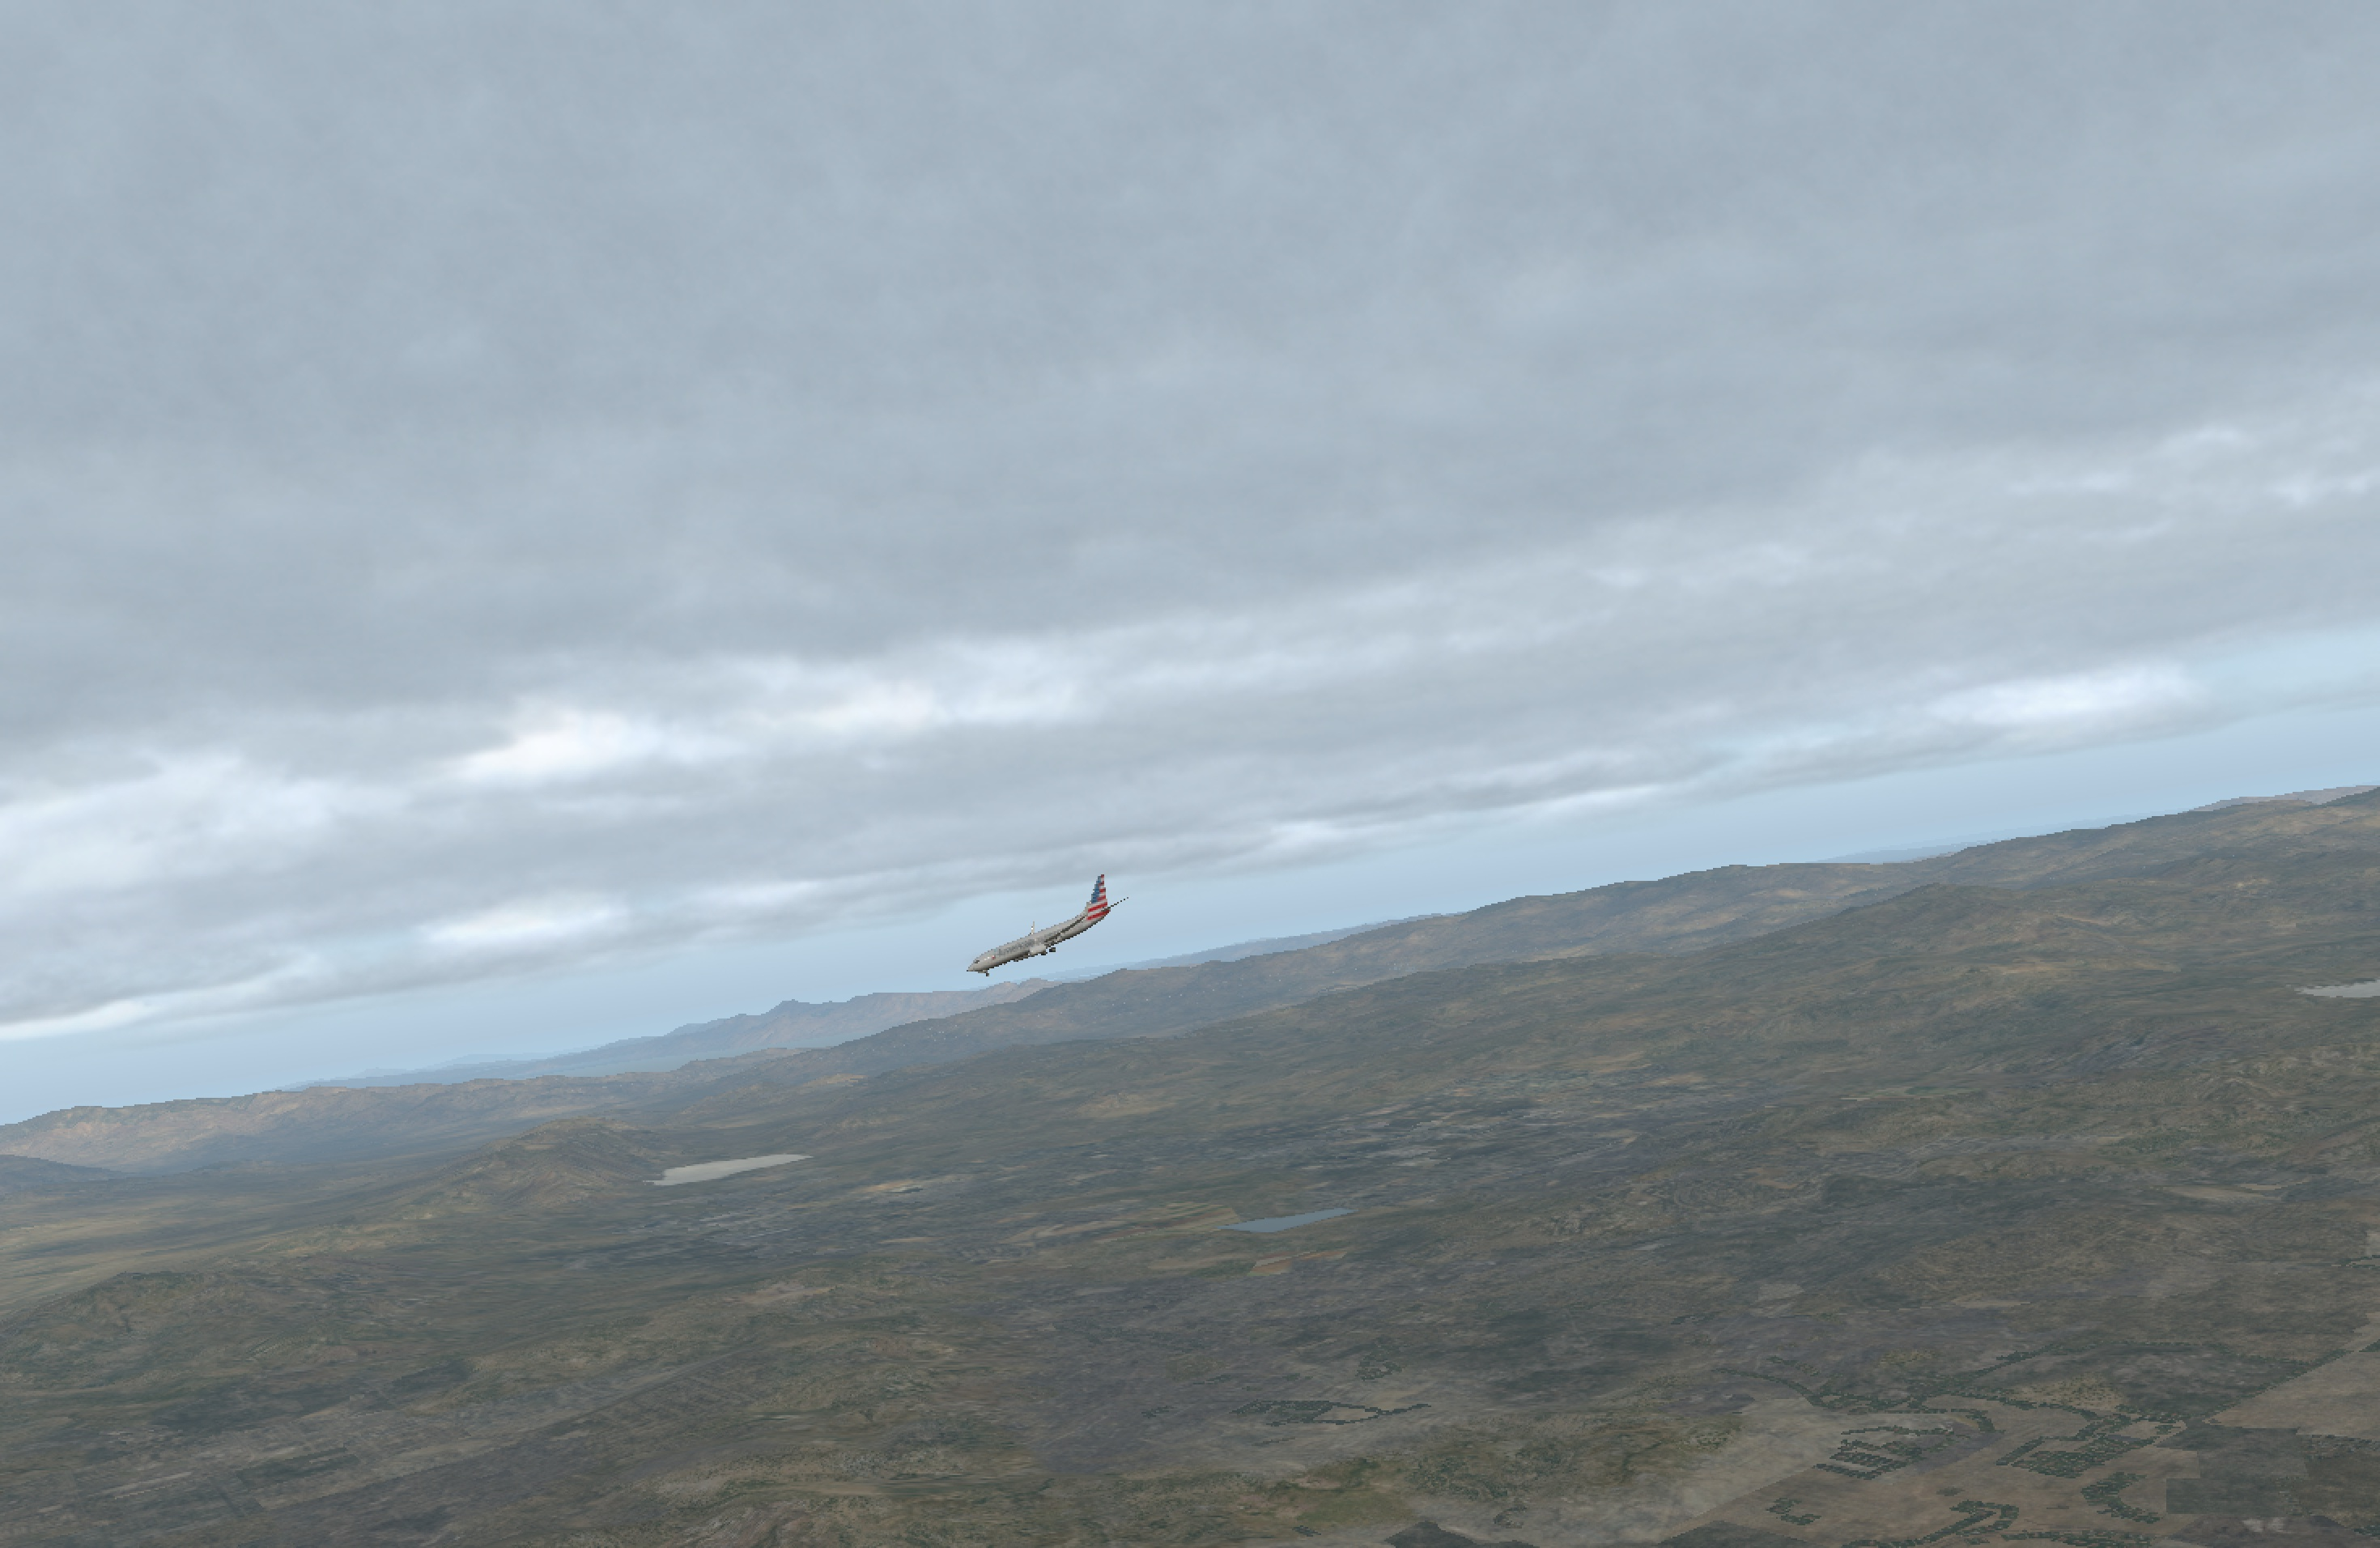aircraft: (953, 912, 1125, 976)
